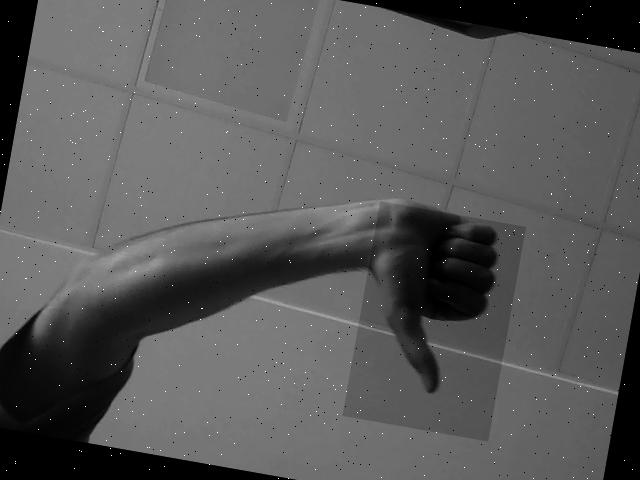bad: (342, 201, 525, 441)
